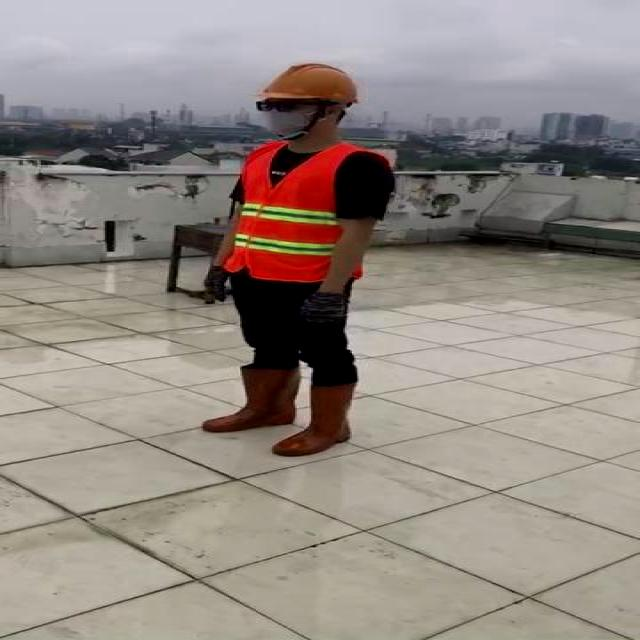boots: (268, 378, 372, 459), (199, 362, 297, 432)
face_mask: (257, 98, 317, 134)
glasses: (252, 97, 310, 115)
hand_glove: (297, 290, 354, 327), (203, 266, 238, 306)
head_helmet: (252, 60, 366, 101)
person: (163, 56, 413, 466)
vest: (226, 149, 384, 283)
